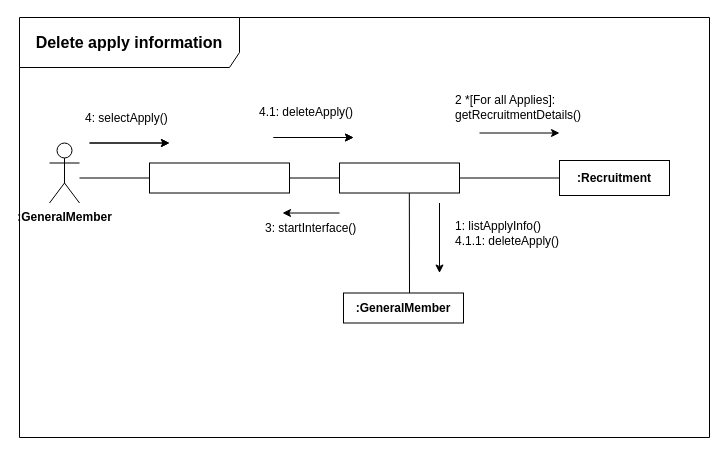
The diagram is 727 pixels wide and 455 high, and some of its shapes have lost their labels. The shapes that lost their labels are listed below. From the top down, each one's centre as x and y in pixels, then its label:
At [219,177]: ":DeleteApplyInfoUI".
At [399,177]: ":DeleteApplyInfo".
